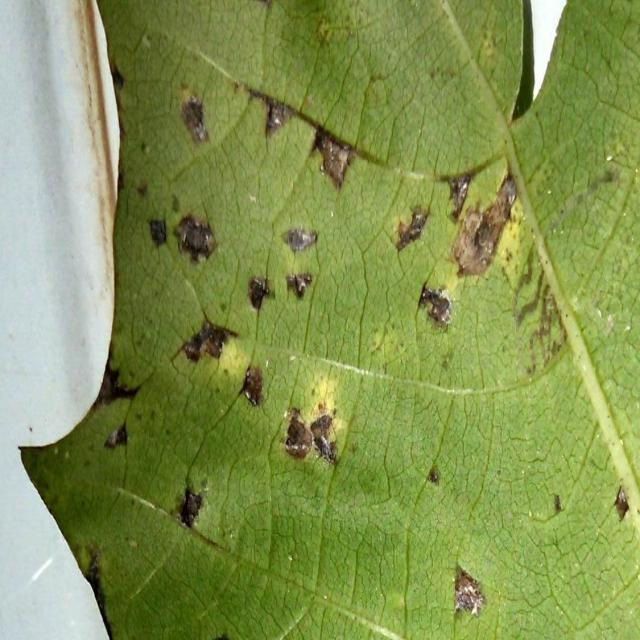Bacterial Blight: (138, 66, 526, 467)
